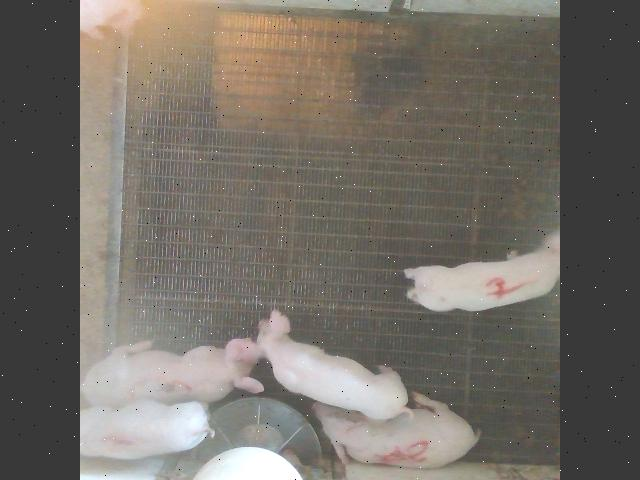pig-1: (81, 399, 215, 458)
pig-3: (82, 337, 262, 406)
pig-4: (404, 233, 560, 310)
pig-5: (313, 391, 480, 466)
